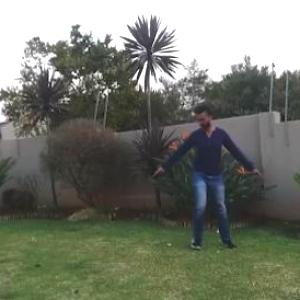land: (132, 97, 270, 265)
